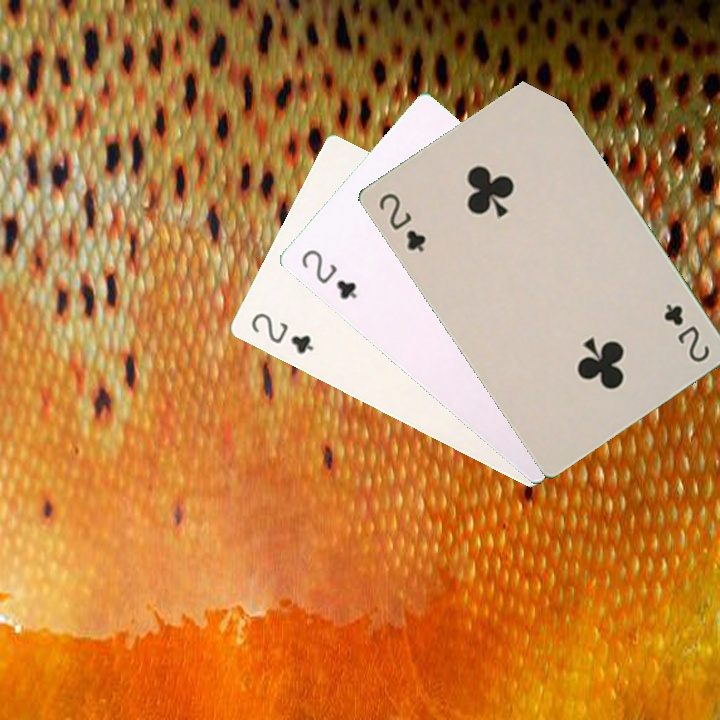2c: (374, 188, 429, 255), (297, 245, 360, 302), (659, 299, 713, 365), (246, 308, 317, 357)
